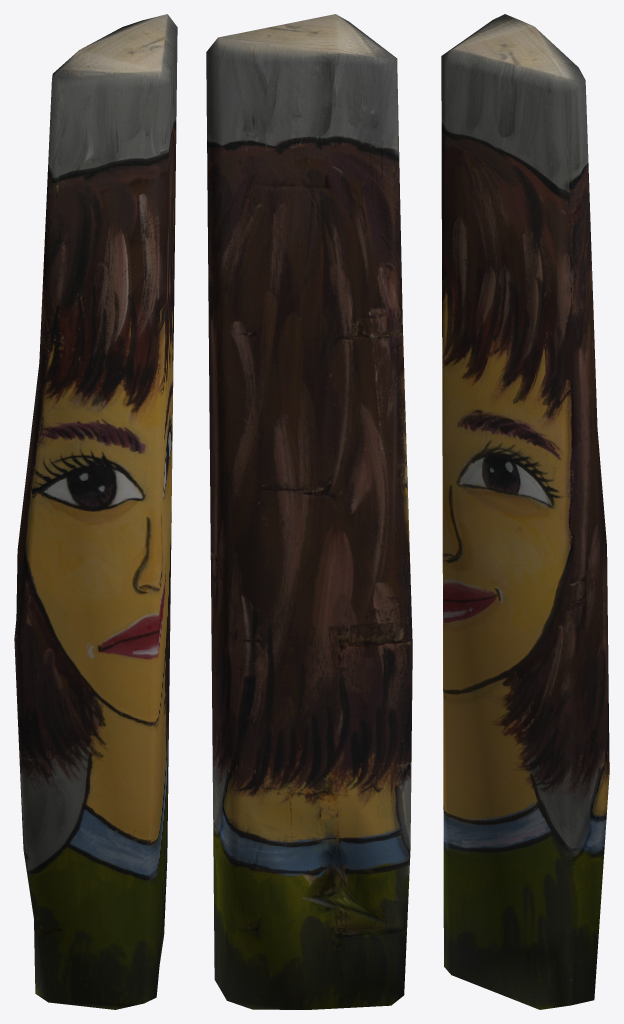
The model's file is 487_G_KESIL_100.obj.
3 renders of one model, left to right at view 1: azimuth 30°, elevation 25°; view 2: azimuth 150°, elevation 25°; view 3: azimuth 270°, elevation 25°, orthographic.
Parts seen in each view (by area): view 1: 487_G_KESIL_100; view 2: 487_G_KESIL_100; view 3: 487_G_KESIL_100.
Part boxes in pixels (<box>): 487_G_KESIL_100: <box>14,14,177,1009</box>; 487_G_KESIL_100: <box>206,14,412,1009</box>; 487_G_KESIL_100: <box>441,14,609,1009</box>.
Bounding box in the file's own units: 34.14 × 172 × 27.85.
Materials: 1 (1 with a texture image).
